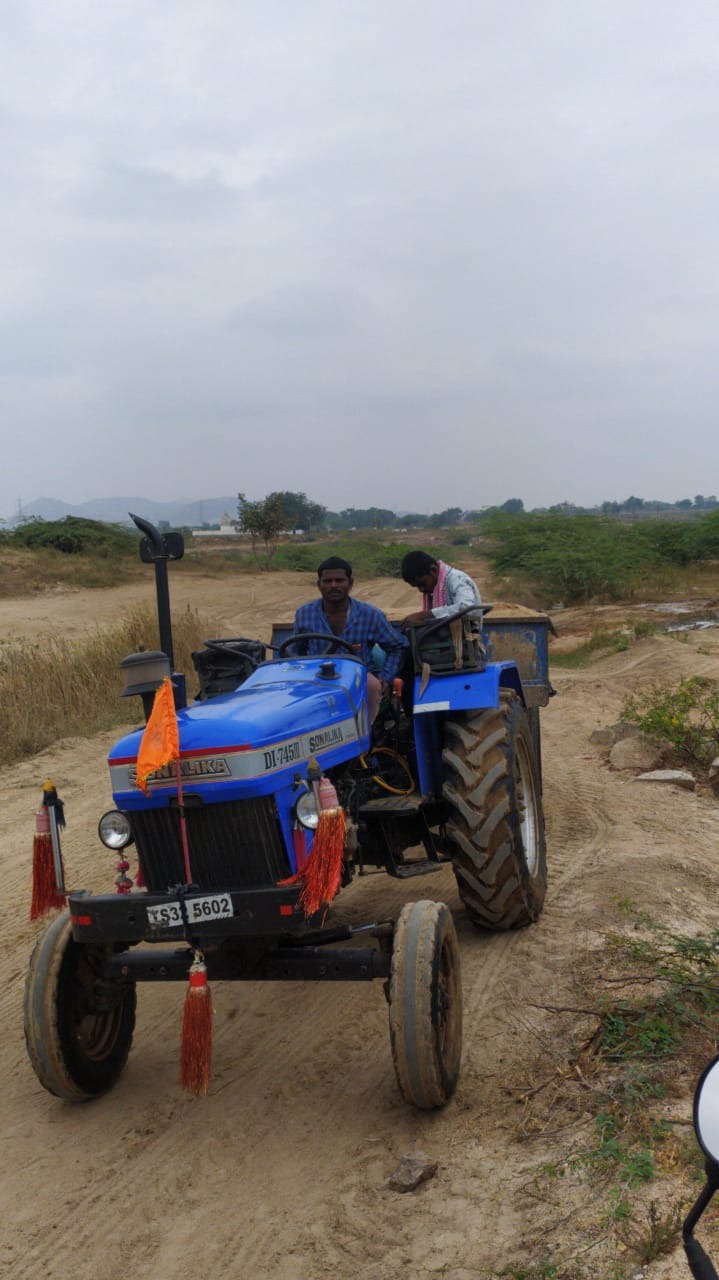num_plate: (132, 890, 245, 936)
